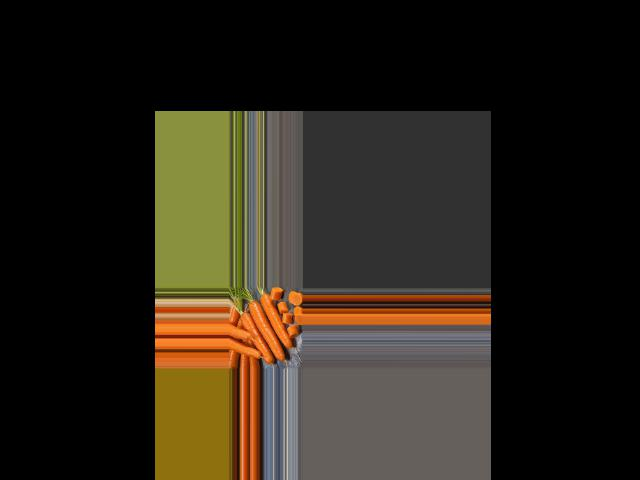carrot: (239, 312, 273, 365)
